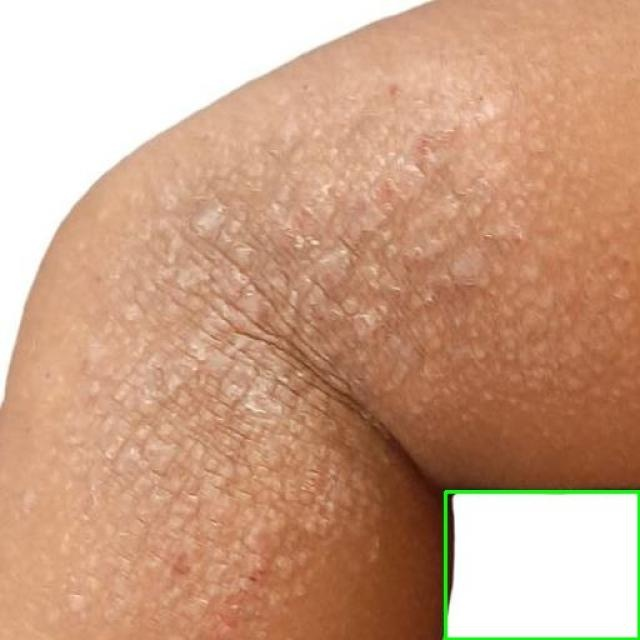Eczema: (445, 491, 639, 639)
